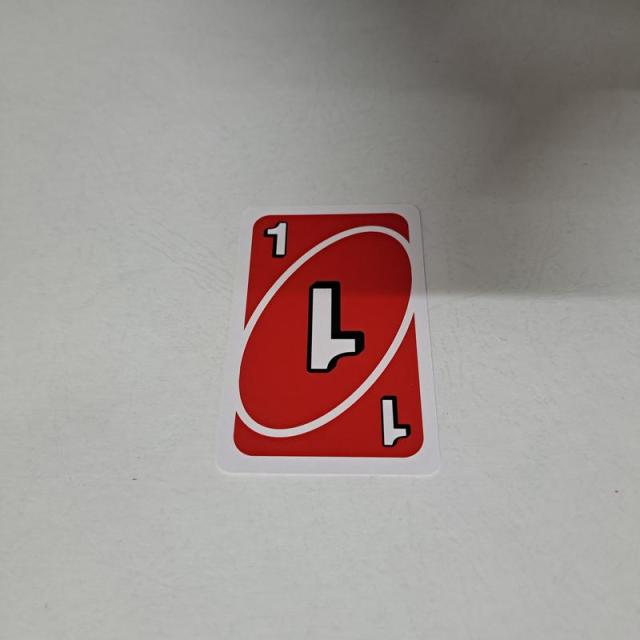Number_1: (260, 214, 293, 268)
Red_Card: (227, 210, 421, 464)
